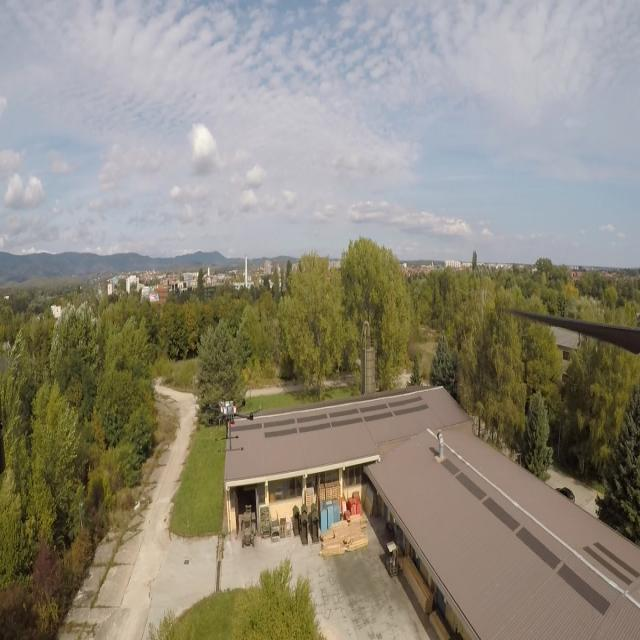UAV: (198, 391, 260, 455)
